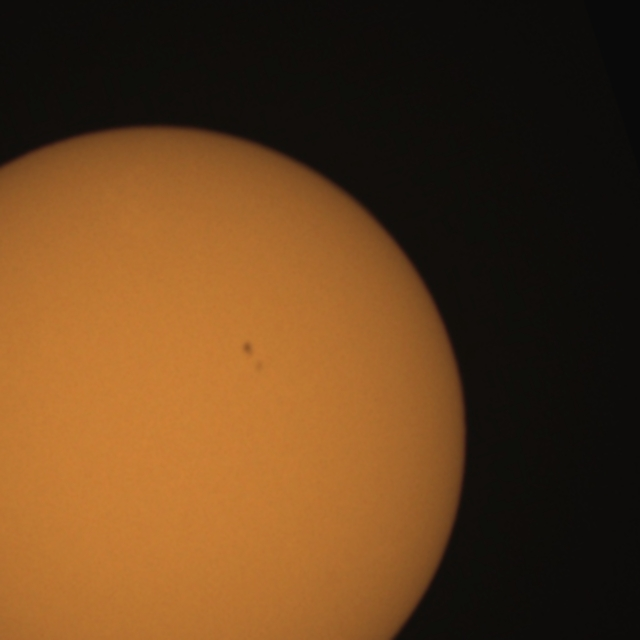sunspot: (240, 338, 266, 376), (240, 339, 256, 359)
